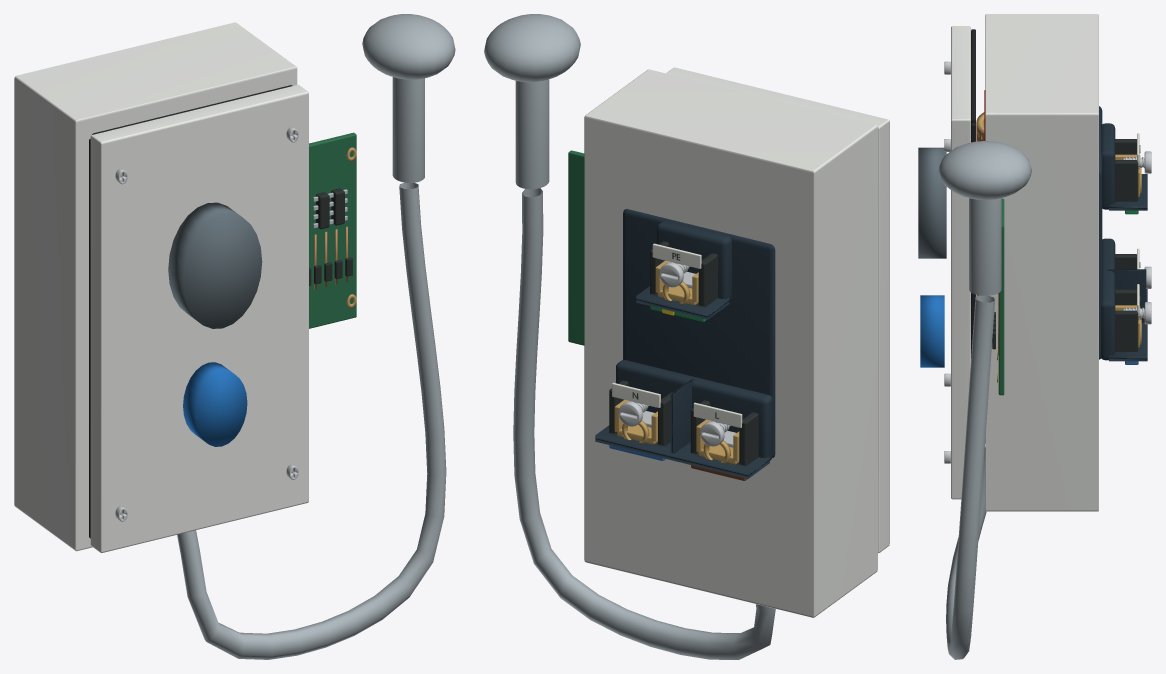
Rendered from shower_default.glb.
The picture shows the model from 3 angles, left to right: view 1: azimuth 30°, elevation 25°; view 2: azimuth 150°, elevation 25°; view 3: azimuth 270°, elevation 25°; orthographic projection. The views are drawn at different scales.
Visible parts, largest first — view 1: part:cover, part:body, part:body.002 · Original 2a8198d3, part:body.001, FR4 control PCB, detail:appliance-control · Detail moulded engineering polyme, detail:enclosure-gasket-and-fixings · Detail rubber gasket, detail:enclosure-gasket-and-fixings · Detail zinc plated fix; view 2: part:body, part:terminals · Original a463fd81, part:body.002 · Original 2a8198d3, part:cover, FR4 control PCB, detail:terminal-clamp:L · Detail moulded engineering polymer, detail:terminal-clamp:PE · Detail moulded engineering polyme, detail:terminal-clamp:N · Detail moulded engineering polymer, detail:terminal-clamp:L · Detail machined brass, detail:terminal-clamp:N · Detail machined brass, detail:terminal-clamp:PE · Detail machined brass, Moulded terminal legend pad (+5 smaller); view 3: part:body, part:body.002 · Original 2a8198d3, part:cover, part:terminals · Original a463fd81, part:body.001, detail:terminal-clamp:N · Detail moulded engineering polymer, detail:terminal-clamp:PE · Detail moulded engineering polyme, FR4 control PCB, detail:enclosure-gasket-and-fixings · Detail rubber gasket, detail:enclosure-gasket-and-fixings · Detail zinc plated fix.
Boxes of the visible parts, box(x1,y1,x2,y2) form: part:cover: box(90, 85, 308, 552); part:body: box(14, 22, 297, 551); part:body.002 · Original 2a8198d3: box(177, 14, 455, 659); part:body.001: box(168, 202, 262, 446); FR4 control PCB: box(309, 132, 356, 328); detail:appliance-control · Detail moulded engineering polyme: box(309, 188, 352, 285); detail:enclosure-gasket-and-fixings · Detail rubber gasket: box(89, 85, 292, 538); detail:enclosure-gasket-and-fixings · Detail zinc plated fix: box(115, 127, 298, 521); part:body: box(584, 69, 877, 617); part:terminals · Original a463fd81: box(595, 209, 775, 478); part:body.002 · Original 2a8198d3: box(484, 14, 775, 659); part:cover: box(666, 67, 889, 553); FR4 control PCB: box(568, 150, 584, 345); detail:terminal-clamp:L · Detail moulded engineering polymer: box(690, 400, 758, 466); detail:terminal-clamp:PE · Detail moulded engineering polyme: box(650, 241, 717, 307); detail:terminal-clamp:N · Detail moulded engineering polymer: box(609, 380, 672, 446); detail:terminal-clamp:L · Detail machined brass: box(696, 419, 739, 464); detail:terminal-clamp:N · Detail machined brass: box(614, 399, 657, 444); detail:terminal-clamp:PE · Detail machined brass: box(655, 260, 698, 305); Moulded terminal legend pad: box(693, 402, 742, 427); part:body: box(985, 14, 1098, 511); part:body.002 · Original 2a8198d3: box(938, 141, 1031, 659); part:cover: box(951, 26, 970, 499); part:terminals · Original a463fd81: box(1099, 106, 1147, 361); part:body.001: box(918, 147, 946, 367); detail:terminal-clamp:N · Detail moulded engineering polymer: box(1115, 289, 1139, 351); detail:terminal-clamp:PE · Detail moulded engineering polyme: box(1115, 139, 1139, 201); FR4 control PCB: box(998, 198, 1004, 395); detail:enclosure-gasket-and-fixings · Detail rubber gasket: box(971, 29, 975, 357); detail:enclosure-gasket-and-fixings · Detail zinc plated fix: box(944, 61, 950, 463).
Size of the model in its own units: 0.9223 by 1.39 by 0.5408.
